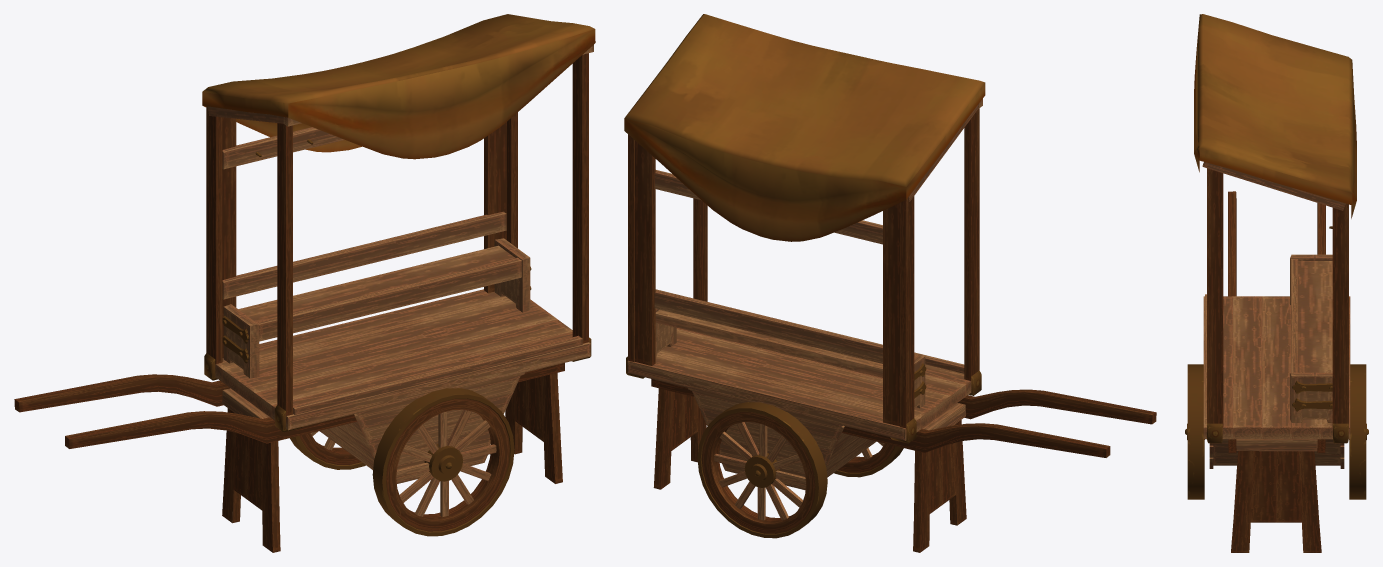
Rendered from Stall_Cart_Empty.gltf.
The picture shows the model from 3 angles, left to right: view 1: azimuth 30°, elevation 25°; view 2: azimuth 150°, elevation 25°; view 3: azimuth 270°, elevation 25°; orthographic projection. The views are drawn at different scales.
Parts seen in each view (by area): view 1: Stall_Cart_Empty; view 2: Stall_Cart_Empty; view 3: Stall_Cart_Empty.
Boxes of the visible parts, x1,y1,x2,y2 form: Stall_Cart_Empty: (14,14,595,552); Stall_Cart_Empty: (624,14,1156,552); Stall_Cart_Empty: (1185,14,1368,552).
Size of the model in its own units: 3.02 by 2.63 by 1.06.
Materials: 3 (3 with a texture image).
